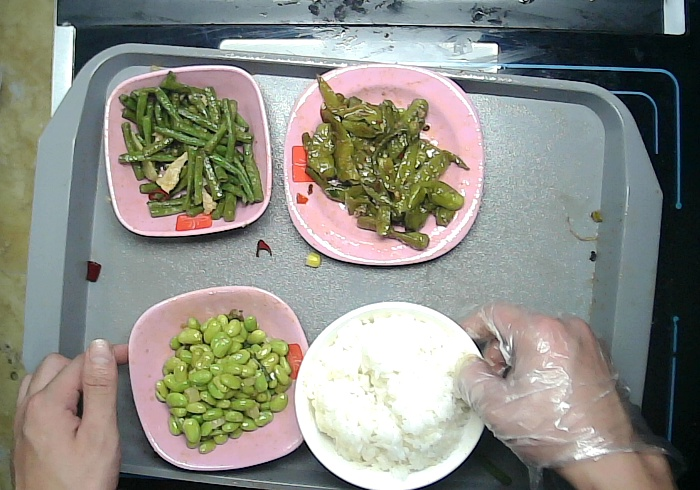SHKJ-Fan_Wan: (293, 298, 490, 490)
SHKJ-Fen_Se_Cai_Die: (125, 280, 311, 470)
SHKJ-Fen_Se_Si_Fang_Cai_Die: (281, 64, 482, 267)
SHKJ-Fen_Se_Xiao_Fang_Die: (103, 64, 276, 241)
